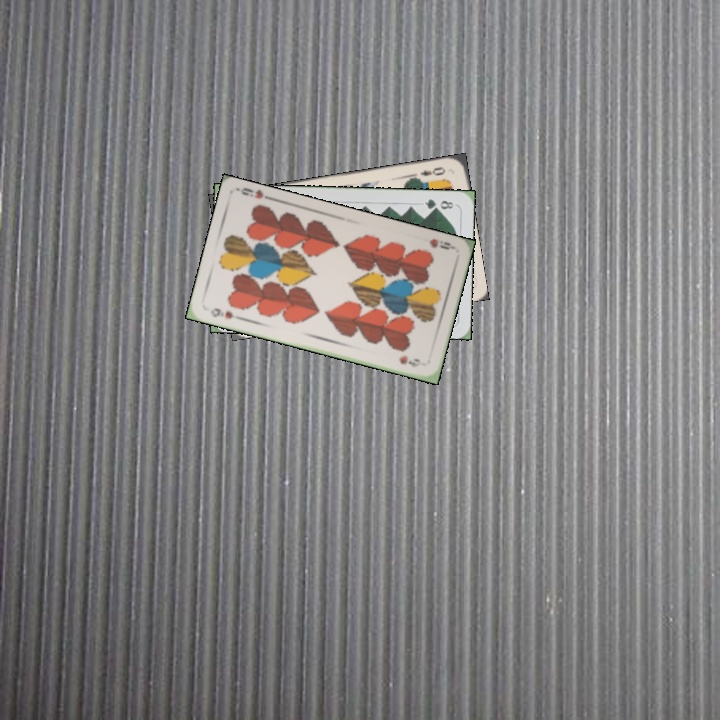EO: (416, 163, 448, 179)
G8: (421, 195, 456, 213)
H9: (207, 304, 243, 322), (425, 234, 457, 252)
